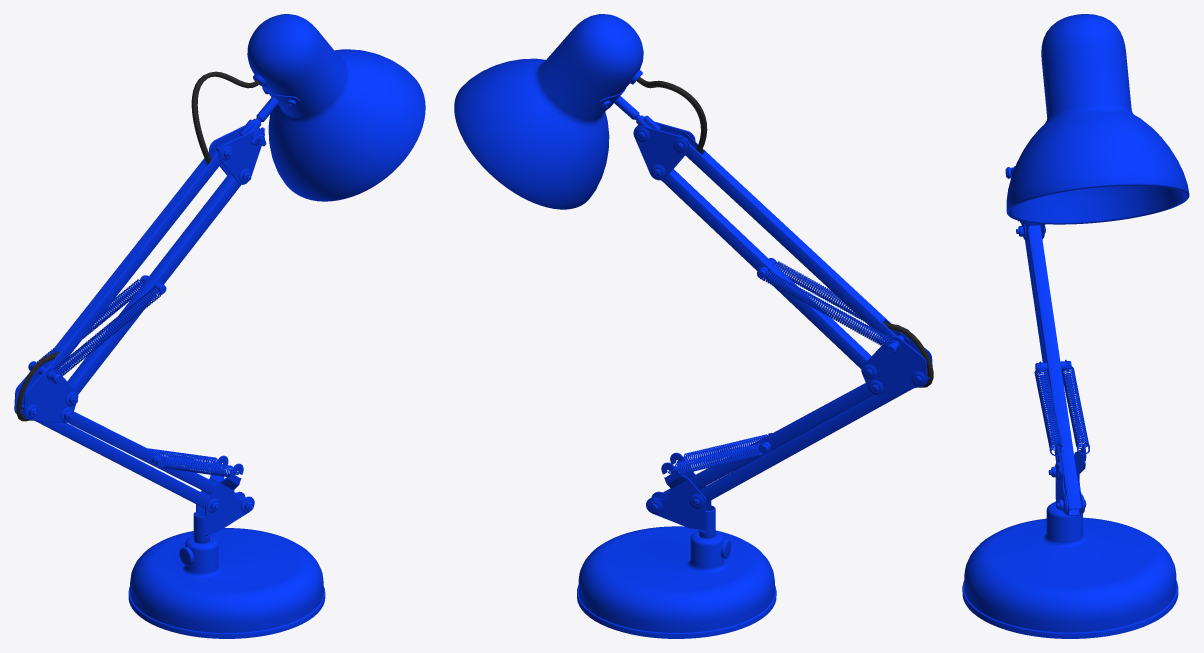
The model's file is lamp.glb.
3 renders of one model, left to right at view 1: azimuth 30°, elevation 25°; view 2: azimuth 150°, elevation 25°; view 3: azimuth 270°, elevation 25°, orthographic. The views are drawn at different scales.
Visible parts, largest first — view 1: Object_2, Object_3; view 2: Object_2, Object_3; view 3: Object_2.
Boxes of the visible parts, x1,y1,x2,y2 form: Object_2: (14, 14, 425, 638); Object_3: (16, 71, 260, 421); Object_2: (454, 14, 932, 638); Object_3: (637, 77, 933, 387); Object_2: (962, 14, 1189, 638).
Size of the model in its own units: 3.06 by 3.82 by 1.28.
